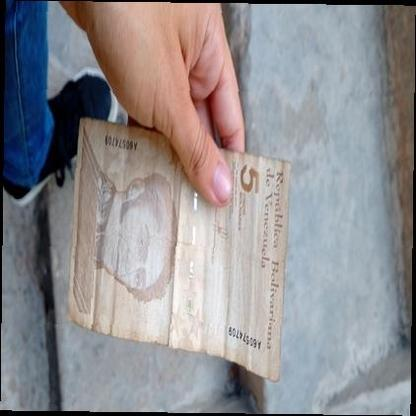five-front-vef: (66, 118, 293, 382)
